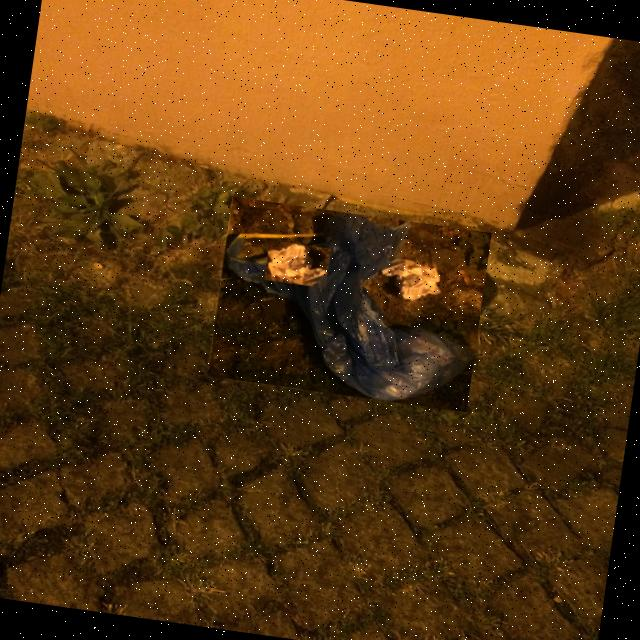Garbage bag: (226, 215, 474, 402)
Normal paper: (268, 244, 327, 286)
